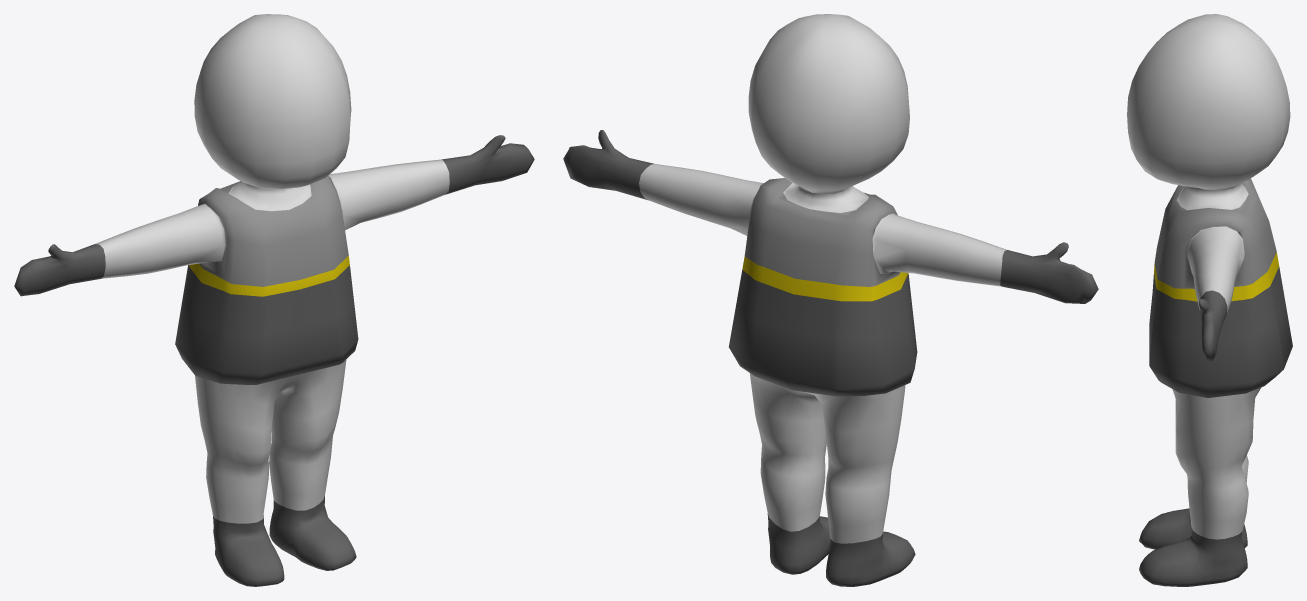
The picture shows the model from 3 angles, left to right: view 1: azimuth 30°, elevation 25°; view 2: azimuth 150°, elevation 25°; view 3: azimuth 270°, elevation 25°; orthographic projection. The views are drawn at different scales.
Parts seen in each view (by area): view 1: Eduard; view 2: Eduard; view 3: Eduard.
Part boxes in pixels (x1,y1,x2,y2): Eduard: (14,14,534,586); Eduard: (563,14,1098,586); Eduard: (1127,14,1292,586).
Bounding box in the file's own units: 201 × 197 × 54.97.
